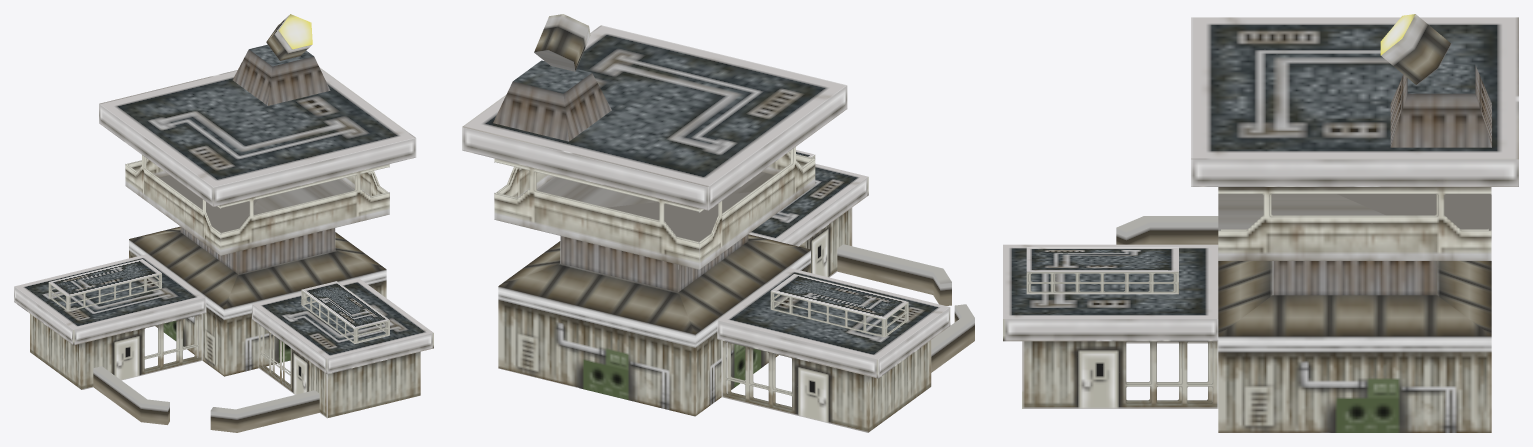
Rendered from s_spotlightcontrol.glb.
The picture shows the model from 3 angles, left to right: view 1: azimuth 30°, elevation 25°; view 2: azimuth 150°, elevation 25°; view 3: azimuth 270°, elevation 25°; orthographic projection. The views are drawn at different scales.
Parts seen in each view (by area): view 1: S_SpotlightControl, LitWin_SpotlightCon, Light; view 2: S_SpotlightControl, LitWin_SpotlightCon, Light; view 3: S_SpotlightControl, Light, LitWin_SpotlightCon.
Part boxes in pixels (box(x1,y1,x2,y2)): S_SpotlightControl: box(14, 44, 433, 432); LitWin_SpotlightCon: box(50, 156, 387, 387); Light: box(266, 14, 312, 60); S_SpotlightControl: box(462, 25, 974, 432); LitWin_SpotlightCon: box(497, 149, 906, 409); Light: box(534, 14, 590, 71); S_SpotlightControl: box(1003, 17, 1518, 432); Light: box(1380, 14, 1451, 85); LitWin_SpotlightCon: box(1029, 194, 1488, 403).
Size of the model in its own units: 18.97 by 16.05 by 18.76.
Materials: 1 (1 with a texture image).
